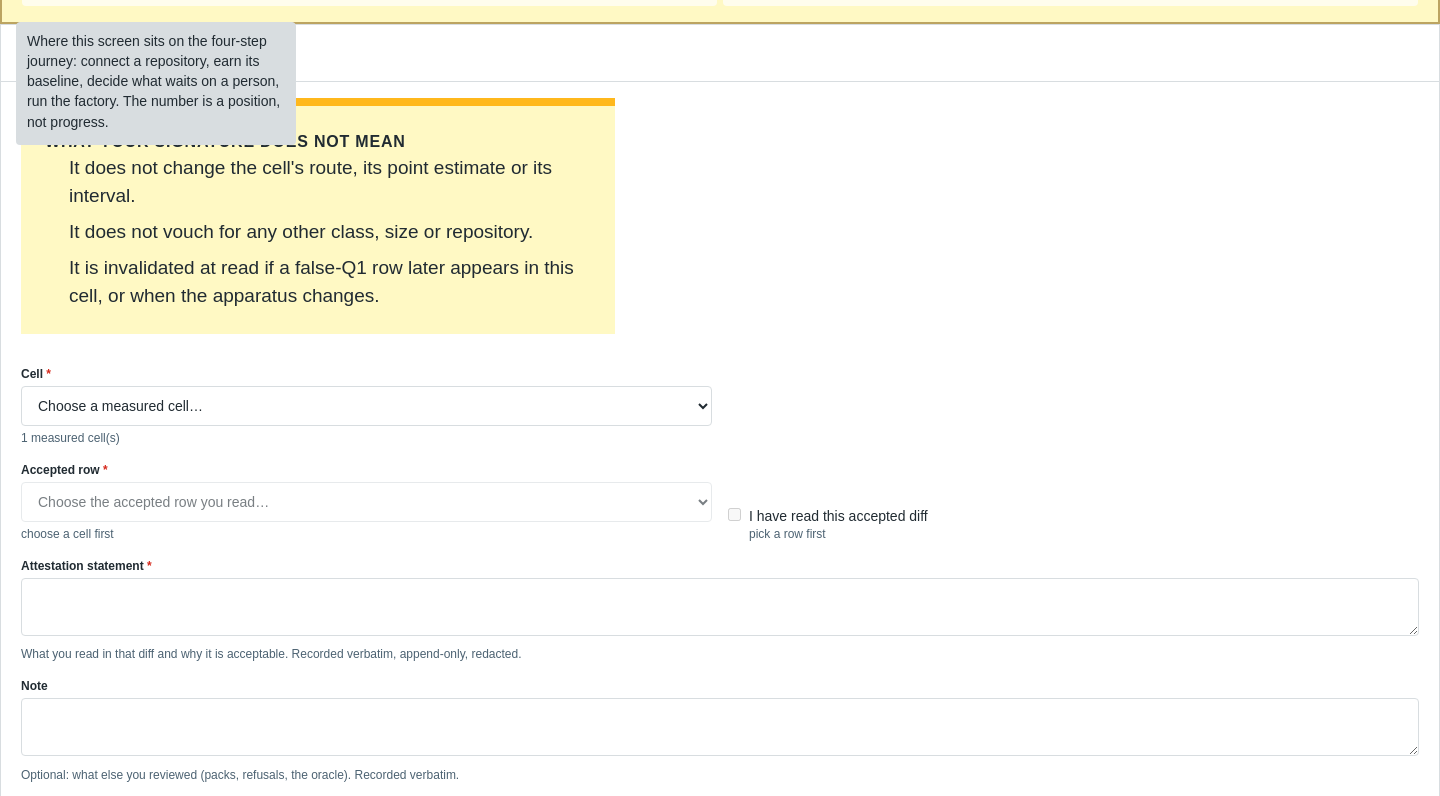
Scenario: SignoffPage (signoff-policy.v3) › names a cell with no proven standard in its own gate row (signoff-policy.v4): the standard arm’s reading must deliver
(page scrolled)
Select "bug.fix · S — deliver, n=40, 95%" in the dropdown labelled "Cell *" at (366,406), box [21,386,712,426]
(page scrolled)
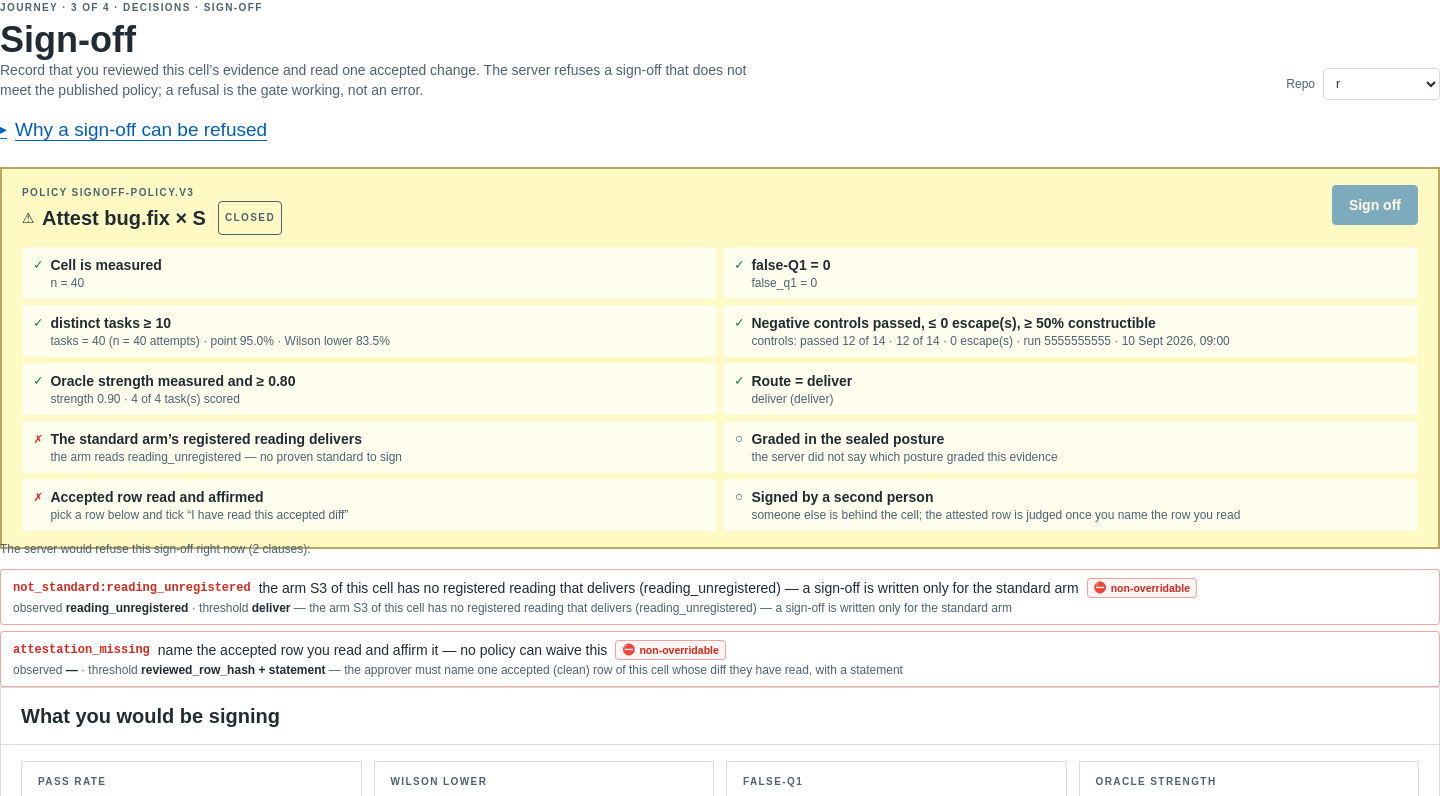
Expected: the text "The standard arm’s registered reading delivers" is shown, [50,431,362,447]
Expected: the list item with test id "refusal-not_standard:reading_unregistered" is shown, [0,569,1439,625]
Expected: the text "the arm reads reading_unregistered — no proven standard to sign" is shown, [50,450,402,464]
